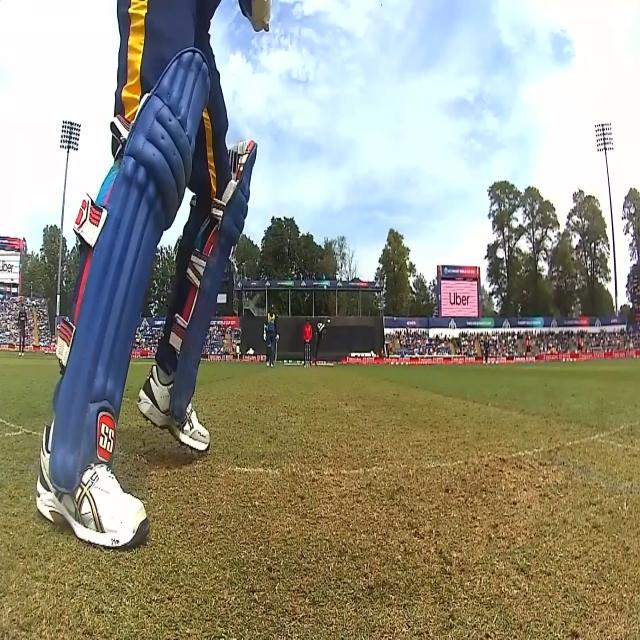ball: (323, 284, 328, 292)
